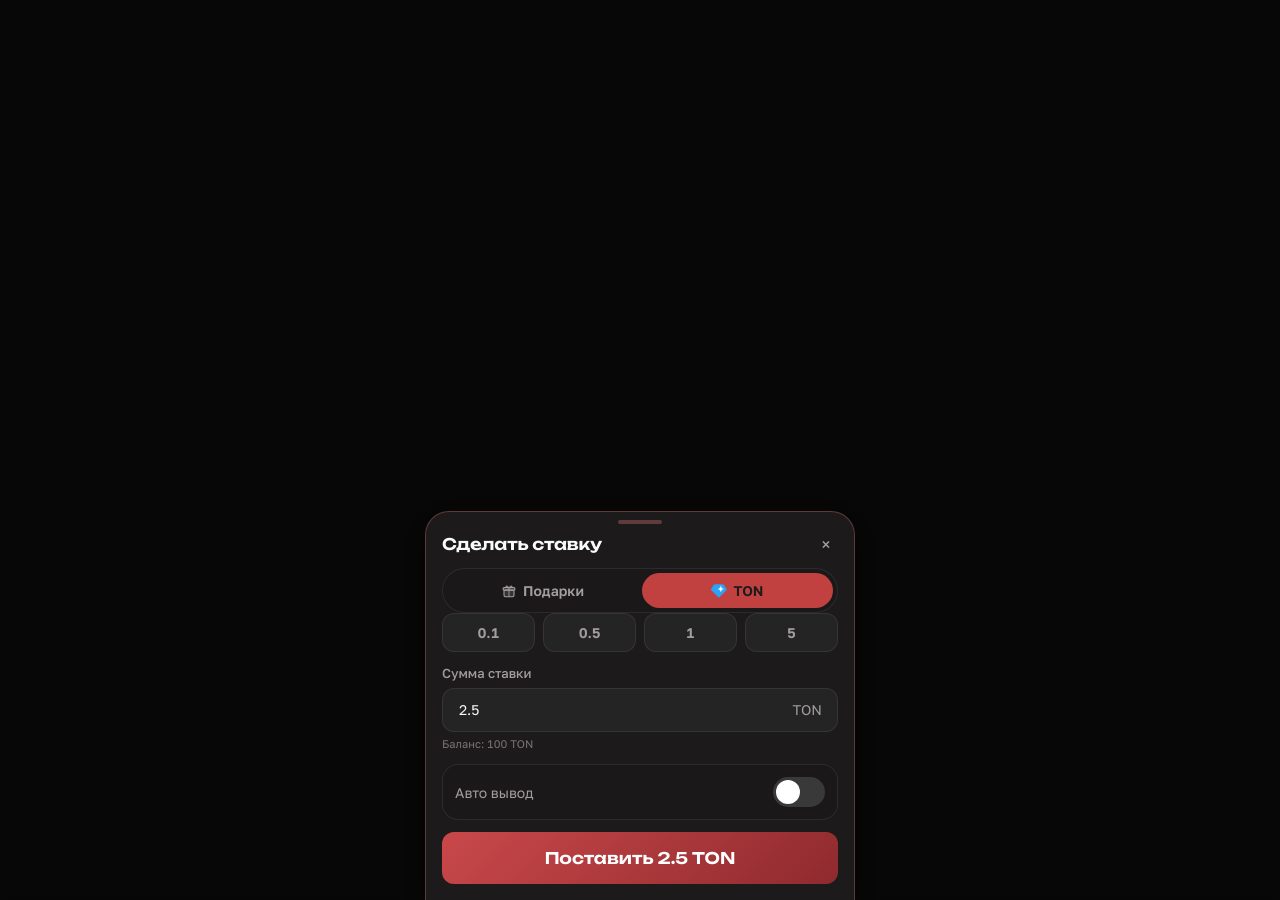
BetSheet (4.1: Dual Betting) › сумма больше баланса: честная ошибка и disabled
Replace the text in the field labelled "Сумма ставки" with "999" at {"x": 640, "y": 710}, box [442, 688, 838, 732]
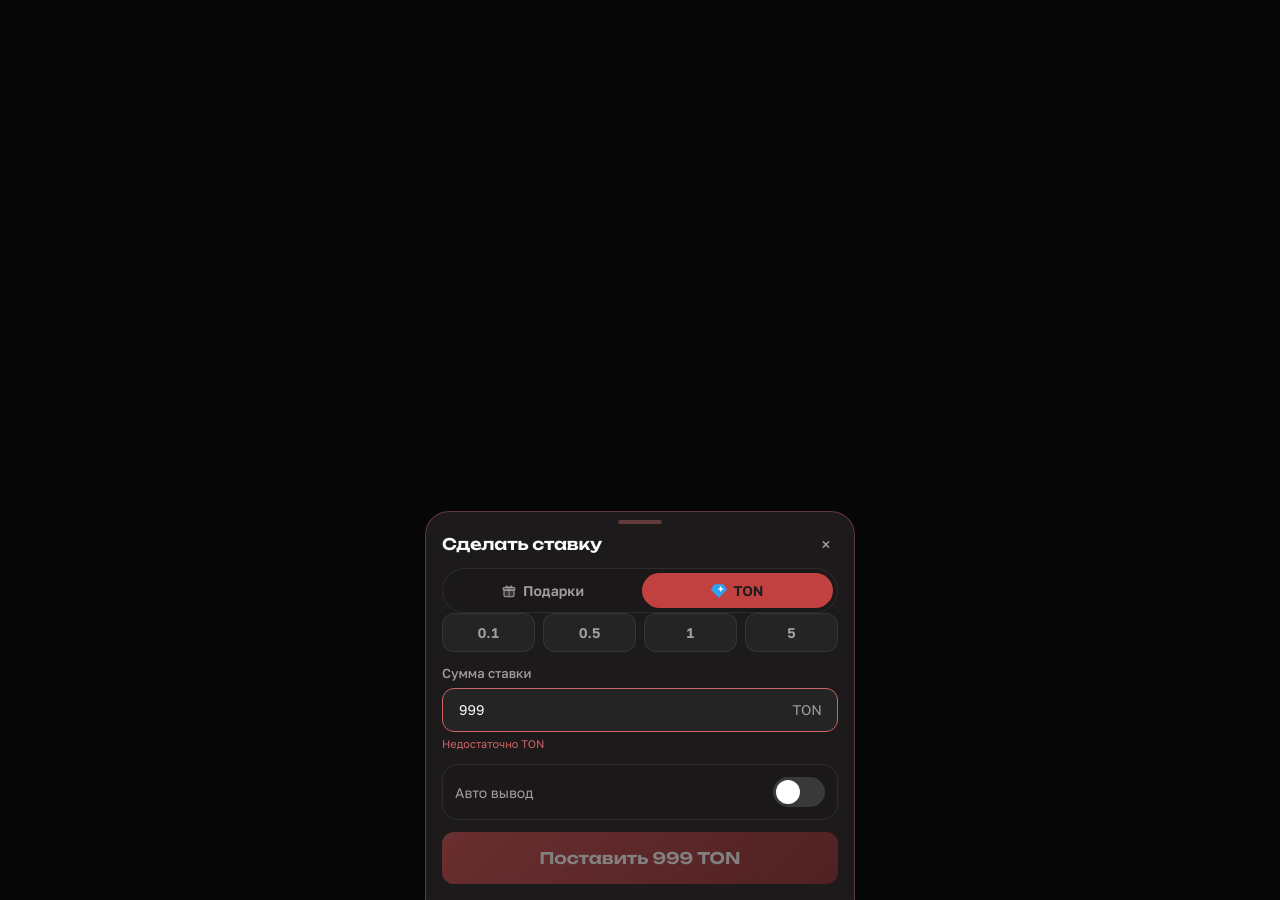
expect the button "Поставить 999 TON" is disabled: met, box [442, 832, 838, 884]
expect the text "Недостаточно TON" is shown: met, box [442, 736, 544, 750]
